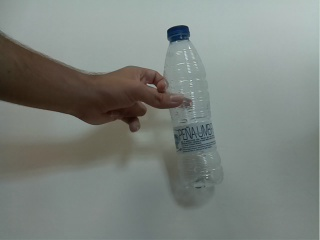botella plastico: (161, 23, 226, 195)
